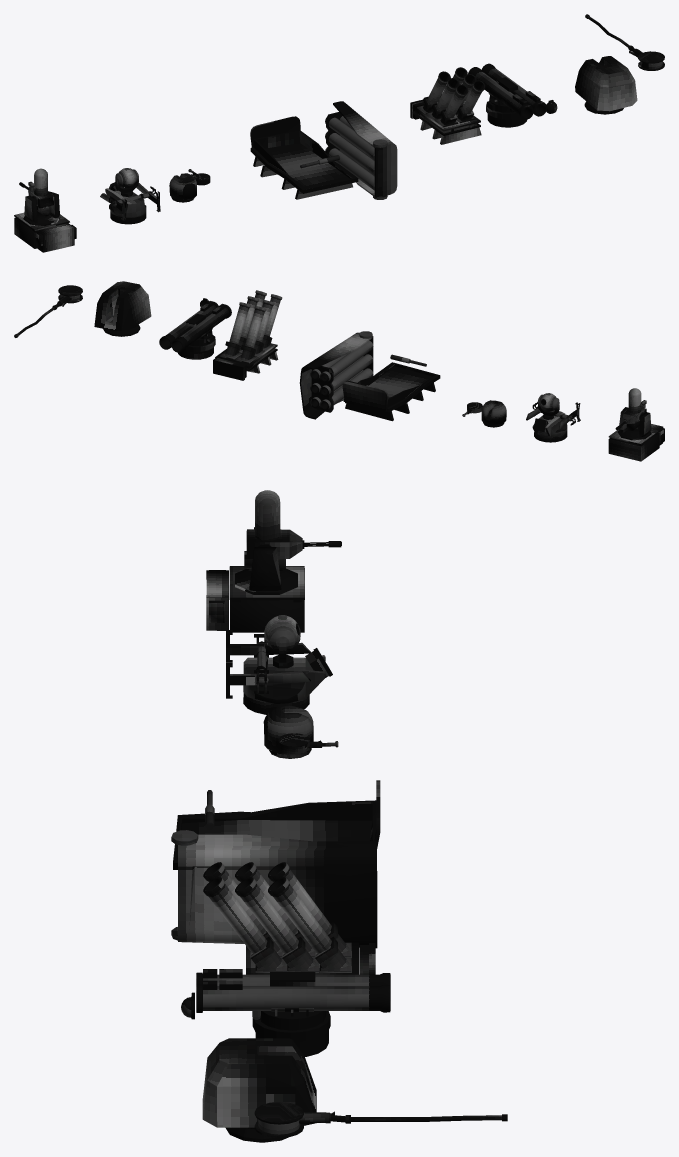
Rendered from attachments_broken_fixed.fbx.
3 views of the same model, one above another, from view 1: azimuth 30°, elevation 25°; view 2: azimuth 150°, elevation 25°; view 3: azimuth 270°, elevation 25° (orthographic). The views are drawn at different scales.
Visible parts, largest first — view 1: cruise_missile_silo_base_broken_fixed, cruise_missile_silo_top_broken_fixed, decoy_torpedo_laucher_broken_fixed, carrier_main_gun_broken_fixed, carrier_phalanx_base_broken_fixed, torpedo_launcher_broken_fixed, carrier_phalanx_broken_gun_fixed, carrier_main_carrier_main_gun_broken_gun_fixed, air_defence_missile_broken_base_top_fixed, carrier_flare_launcher_broken_fixed, air_defence_missile_broken_fixed; view 2: cruise_missile_silo_top_broken_fixed, decoy_torpedo_laucher_broken_fixed, cruise_missile_silo_base_broken_fixed, carrier_main_gun_broken_fixed, torpedo_launcher_broken_fixed, carrier_phalanx_base_broken_fixed, carrier_phalanx_broken_gun_fixed, carrier_main_carrier_main_gun_broken_gun_fixed, air_defence_missile_broken_base_top_fixed, carrier_flare_launcher_broken_fixed, air_defence_missile_broken_fixed; view 3: cruise_missile_silo_top_broken_fixed, decoy_torpedo_laucher_broken_fixed, torpedo_launcher_broken_fixed, carrier_main_gun_broken_fixed, carrier_phalanx_base_broken_fixed, cruise_missile_silo_base_broken_fixed, carrier_main_carrier_main_gun_broken_gun_fixed, air_defence_missile_broken_base_top_fixed, carrier_phalanx_broken_gun_fixed, air_defence_missile_broken_fixed, carrier_flare_launcher_broken_fixed.
Part boxes in pixels (x1,y1,x2,y2): cruise_missile_silo_base_broken_fixed: [250, 116, 358, 199]; cruise_missile_silo_top_broken_fixed: [325, 101, 397, 199]; decoy_torpedo_laucher_broken_fixed: [410, 67, 485, 144]; carrier_main_gun_broken_fixed: [575, 56, 637, 114]; carrier_phalanx_base_broken_fixed: [14, 191, 76, 252]; torpedo_launcher_broken_fixed: [468, 63, 546, 119]; carrier_phalanx_broken_gun_fixed: [28, 168, 53, 216]; carrier_main_carrier_main_gun_broken_gun_fixed: [585, 14, 664, 70]; air_defence_missile_broken_base_top_fixed: [105, 182, 146, 217]; carrier_flare_launcher_broken_fixed: [169, 173, 196, 199]; air_defence_missile_broken_fixed: [100, 183, 160, 220]; cruise_missile_silo_top_broken_fixed: [299, 331, 373, 419]; decoy_torpedo_laucher_broken_fixed: [213, 290, 282, 380]; cruise_missile_silo_base_broken_fixed: [342, 362, 440, 421]; carrier_main_gun_broken_fixed: [94, 281, 151, 336]; torpedo_launcher_broken_fixed: [159, 301, 231, 352]; carrier_phalanx_base_broken_fixed: [608, 407, 664, 461]; carrier_phalanx_broken_gun_fixed: [623, 388, 646, 430]; carrier_main_carrier_main_gun_broken_gun_fixed: [14, 285, 82, 337]; air_defence_missile_broken_base_top_fixed: [532, 410, 567, 436]; carrier_flare_launcher_broken_fixed: [481, 400, 506, 424]; air_defence_missile_broken_fixed: [526, 402, 580, 429]; cruise_missile_silo_top_broken_fixed: [171, 830, 377, 948]; decoy_torpedo_laucher_broken_fixed: [203, 862, 375, 974]; torpedo_launcher_broken_fixed: [196, 969, 390, 1042]; carrier_main_gun_broken_fixed: [202, 1038, 316, 1142]; carrier_phalanx_base_broken_fixed: [206, 527, 304, 632]; cruise_missile_silo_base_broken_fixed: [173, 780, 380, 869]; carrier_main_carrier_main_gun_broken_gun_fixed: [254, 1102, 507, 1137]; air_defence_missile_broken_base_top_fixed: [243, 648, 332, 704]; carrier_phalanx_broken_gun_fixed: [244, 490, 302, 569]; air_defence_missile_broken_fixed: [226, 630, 310, 698]; carrier_flare_launcher_broken_fixed: [263, 705, 313, 753].
Bounding box in the file's own units: 4298 × 573 × 1065.
1 material, 1 textured.
